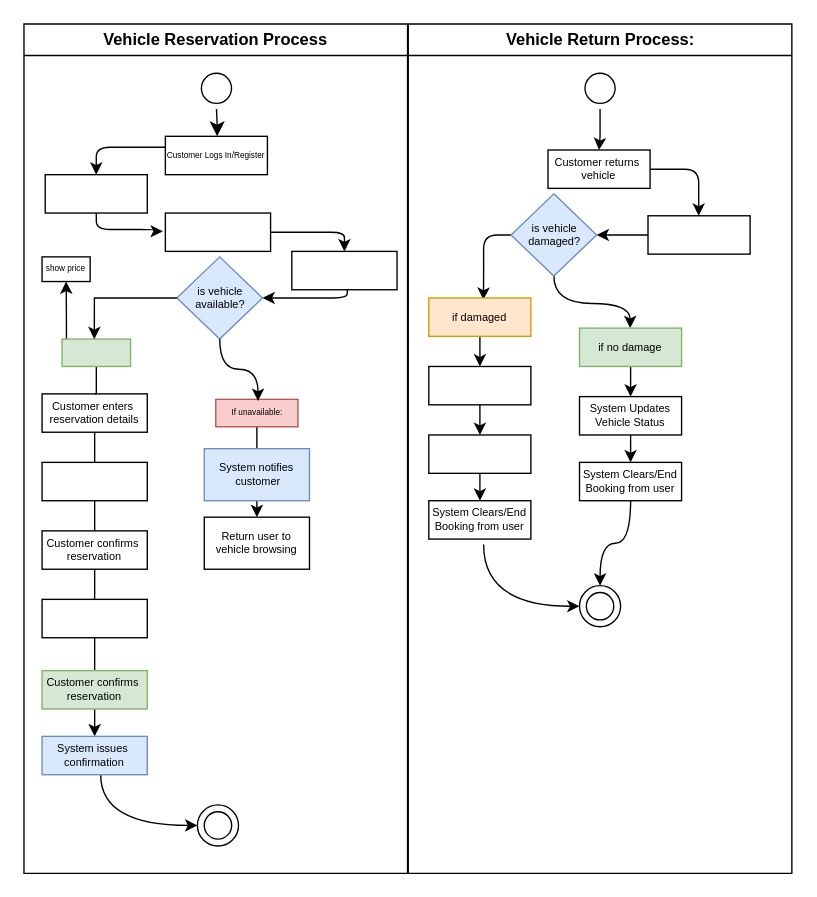
The diagram is 817 pixels wide and 897 high, and some of its shapes have lost their labels. Each missing label, with the centre of its shape:
Admin calculates additional charges: pixel 479 385
Admin inspects vehicle: pixel 698 234
Customer searches for available vehicles: pixel 95 193
Customer selects a vehicle: pixel 343 270
If available:: pixel 96 352
Process payment from deposit: pixel 479 453
System calculates cost: pixel 94 481
System displays available vehicles: pixel 217 231
System processes payment: pixel 94 618
